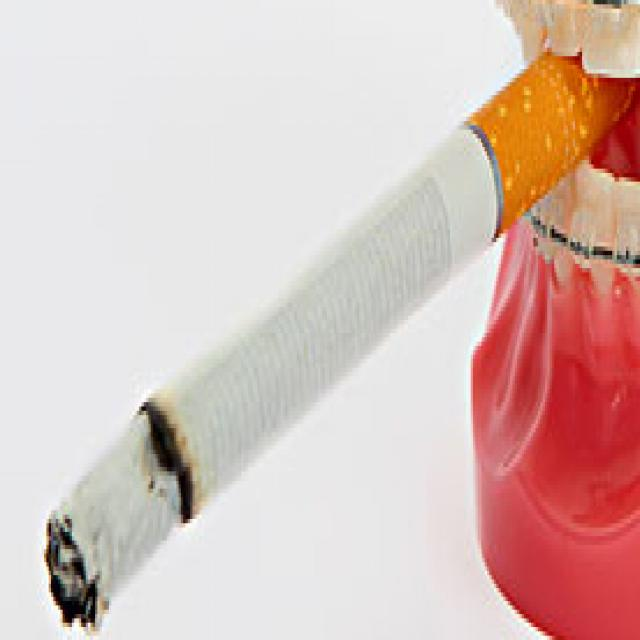smoking: (46, 52, 576, 628)
